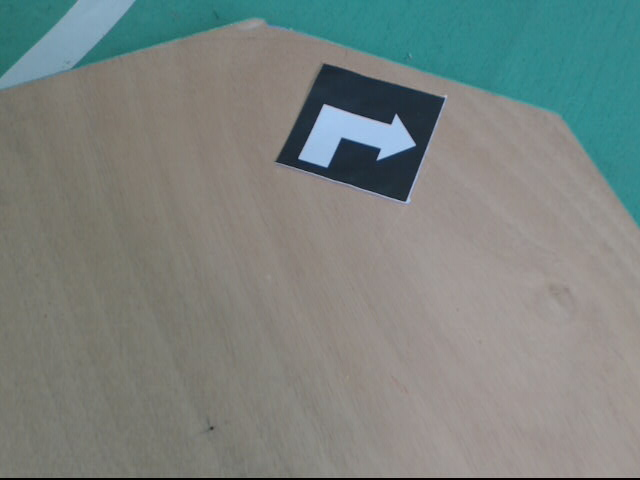right: (273, 64, 446, 206)
